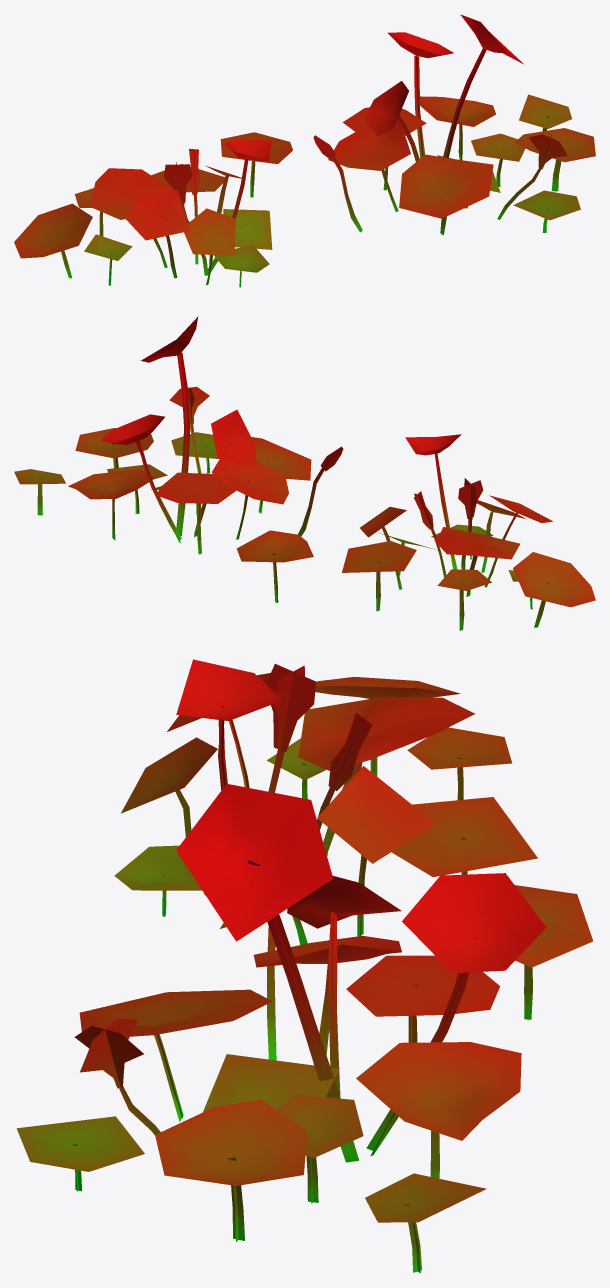
The model's file is Var6_LOD0.fbx.
The picture shows the model from 3 angles, top to bottom: view 1: azimuth 30°, elevation 25°; view 2: azimuth 150°, elevation 25°; view 3: azimuth 270°, elevation 25°; orthographic projection. The views are drawn at different scales.
Parts seen in each view (by area): view 1: _e01e_Var6_LOD0; view 2: _e01e_Var6_LOD0; view 3: _e01e_Var6_LOD0.
Boxes of the visible parts, left/top/right/bottom form: _e01e_Var6_LOD0: left=14, top=14, right=595, bottom=287; _e01e_Var6_LOD0: left=14, top=316, right=595, bottom=630; _e01e_Var6_LOD0: left=16, top=659, right=592, bottom=1273.
Size of the model in its own units: 46.54 by 15.42 by 20.62.
